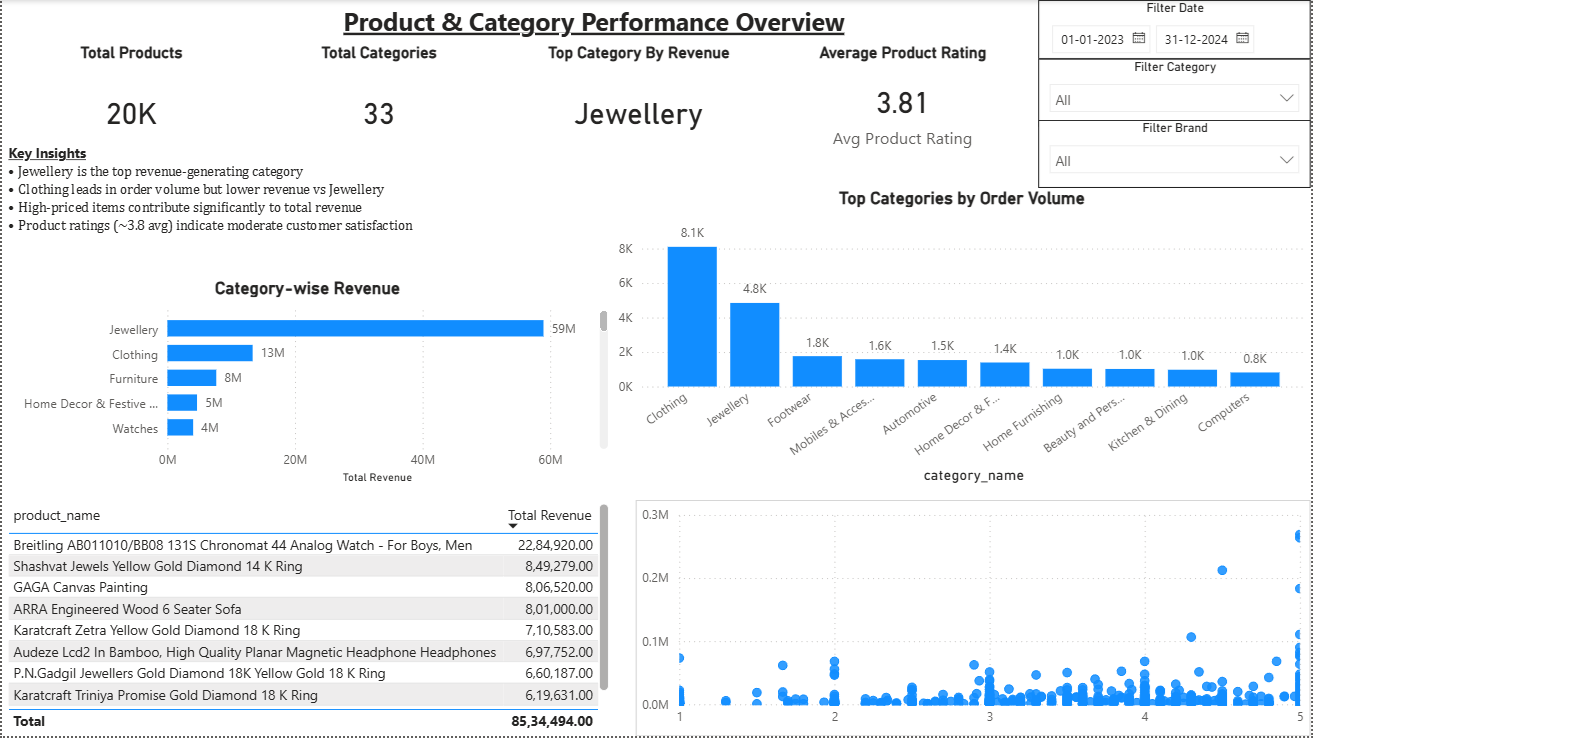

The dashboard page shown, as its layout file describes it:
{"tool":"powerbi","page":{"name":"PRODUCT & CATEGORY PERFORMANCE OVERVIEW","canvas":[1280,720],"ordinal":2},"visuals":[{"type":"card","title":"Total Products","fields":{"Values":["ecommerce products.Total Products"]},"box":[0,43.3,253.3,116.7],"z":0},{"type":"card","title":"Total Categories","fields":{"Values":["Count(ecommerce categories.category_id)"]},"box":[253.3,43.3,231.7,116.7],"z":1000},{"type":"card","title":"Top Category By Revenue","fields":{"Values":["Customer Revenue.Top Category by Revenue"]},"box":[496.7,43.3,253.3,116.7],"z":2000},{"type":"card","title":"Average Product Rating","fields":{"Values":["Customer Revenue.Avg Product Rating"]},"box":[750,43.3,263.3,116.7],"z":3000},{"type":"clusteredBarChart","title":"Category-wise Revenue","fields":{"Y":["ecommerce order_items.Total Revenue"],"Category":["ecommerce categories.category_name"]},"box":[0,271.5,598,206.7],"z":4000},{"type":"clusteredColumnChart","title":"Top Categories by Order Volume","fields":{"Y":["ecommerce orders.Total Orders by Category"],"Category":["ecommerce categories.category_name"]},"box":[598,183.4,682.3,294.7],"z":5000},{"type":"tableEx","fields":{"Values":["ecommerce products.product_name","ecommerce order_items.Total Revenue"]},"box":[0,488.3,598.3,231.7],"z":6000},{"type":"scatterChart","fields":{"Y":["ecommerce order_items.Total Revenue"],"Category":["ecommerce products.product_name"],"X":["Customer Revenue.Avg Product Rating"]},"box":[620,488.8,660,231.2],"z":7000},{"type":"slicer","title":"Filter Date","fields":{"Values":["ecommerce orders.order_date"]},"box":[1013.8,0,266.2,57.5],"z":8000},{"type":"slicer","title":"Filter Category","fields":{"Values":["ecommerce categories.category_name"]},"box":[1013.8,57.5,266.2,66.2],"z":9000},{"type":"slicer","title":"Filter Brand","fields":{"Values":["ecommerce products.brand"]},"box":[1013.8,117.5,266.2,66.2],"z":10000},{"type":"textbox","box":[328.8,0,662.5,43.8],"z":11000},{"type":"textbox","box":[1.2,135.7,596.7,106.4],"z":11001}]}

Visuals, with their boxes on the page's 1280x720 design canvas (x1, y1, x2, y2). These are canvas units, not pixel positions in the 1591x738 screenshot, which may show the page scaled, cropped or inside an application window:
"Total Products" card: x1=0, y1=43, x2=253, y2=160
"Total Categories" card: x1=253, y1=43, x2=485, y2=160
"Top Category By Revenue" card: x1=497, y1=43, x2=750, y2=160
"Average Product Rating" card: x1=750, y1=43, x2=1013, y2=160
"Category-wise Revenue" clusteredBarChart: x1=0, y1=272, x2=598, y2=478
"Top Categories by Order Volume" clusteredColumnChart: x1=598, y1=183, x2=1280, y2=478
tableEx - ecommerce products.product_name x ecommerce order_items.Total Revenue: x1=0, y1=488, x2=598, y2=720
scatterChart - ecommerce order_items.Total Revenue x ecommerce products.product_name: x1=620, y1=489, x2=1280, y2=720
"Filter Date" slicer: x1=1014, y1=0, x2=1280, y2=58
"Filter Category" slicer: x1=1014, y1=58, x2=1280, y2=124
"Filter Brand" slicer: x1=1014, y1=118, x2=1280, y2=184
textbox: x1=329, y1=0, x2=991, y2=44
textbox: x1=1, y1=136, x2=598, y2=242
